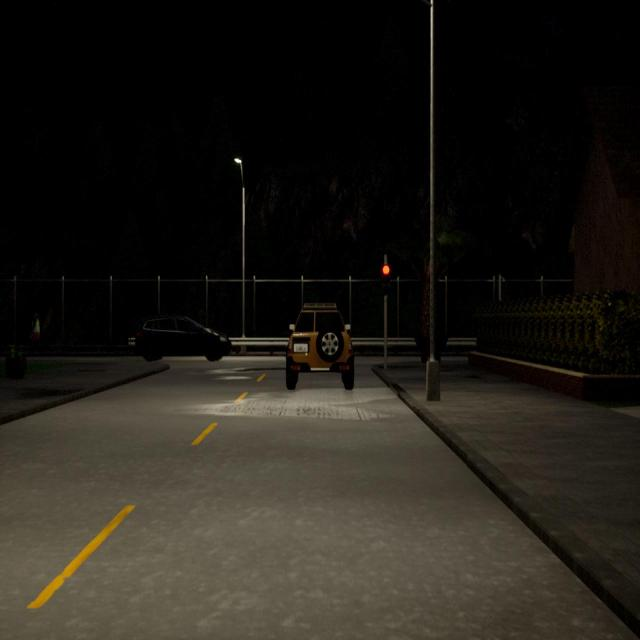Vehicle: (283, 303, 356, 390), (129, 312, 232, 367)
traffic_light: (383, 264, 391, 298)
